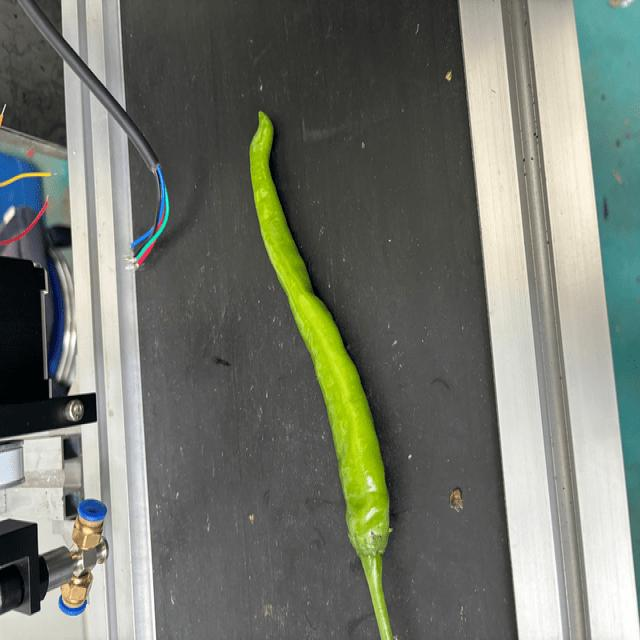chili: (248, 105, 393, 565)
